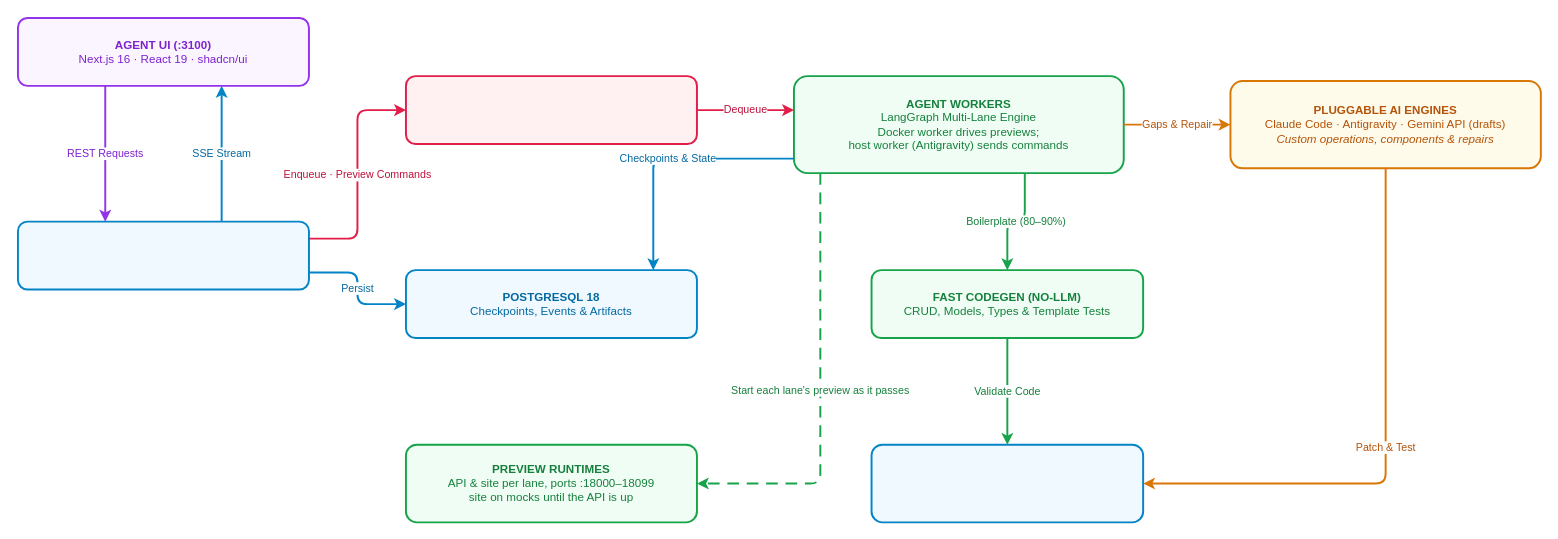
This 1558x539 diagram has some shape labels left out. The shapes that lost their labels are listed below. From the top down, each one's box as (x1, y1, x2, y2) in pixels, then its label:
(404, 75, 697, 145): REDIS 7 Job Queues · Pub/Sub · Preview Commands
(16, 220, 309, 290): AGENT API (:8100) FastAPI · Hexagonal · SSE Stream
(870, 443, 1144, 523): TEST SANDBOXES bga-runner · bga-runner-node lean checks: app starts, API answers
